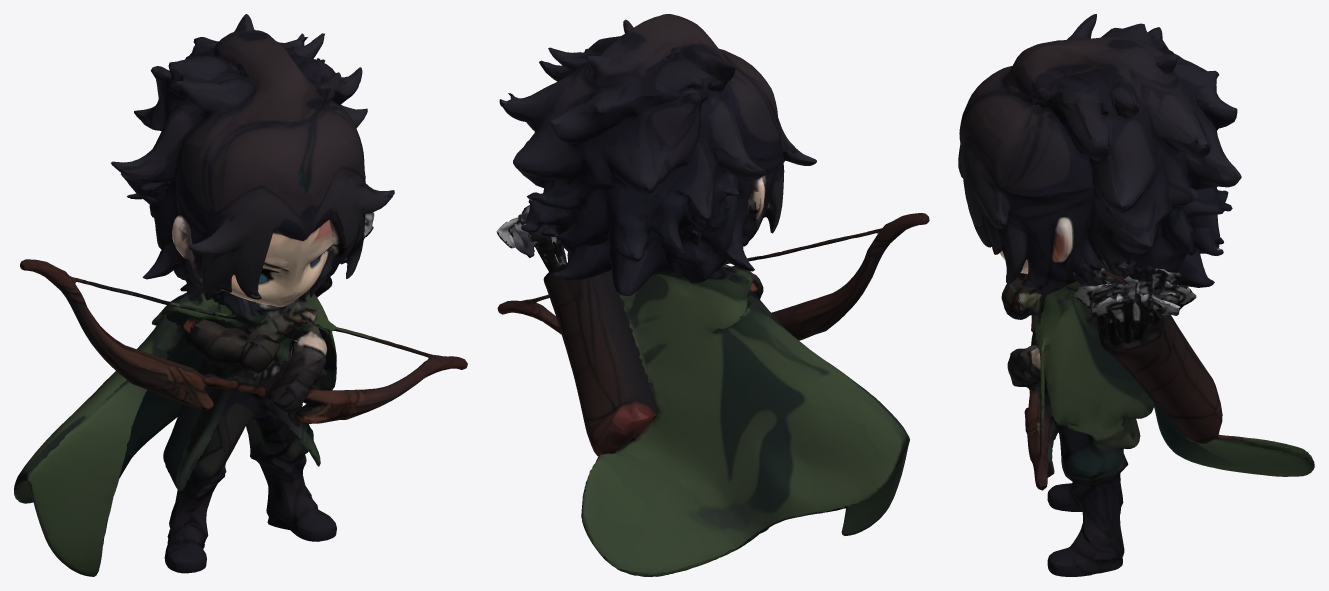
Rendered from archer.glb.
3 views of the same model, side by side, from view 1: azimuth 30°, elevation 25°; view 2: azimuth 150°, elevation 25°; view 3: azimuth 270°, elevation 25° (orthographic). The views are drawn at different scales.
Parts seen in each view (by area): view 1: tmp4hcfwi1t.ply; view 2: tmp4hcfwi1t.ply; view 3: tmp4hcfwi1t.ply.
Boxes of the visible parts, x1,y1,x2,y2 form: tmp4hcfwi1t.ply: (14,14,467,576); tmp4hcfwi1t.ply: (496,14,929,576); tmp4hcfwi1t.ply: (958,14,1314,576).
Bounding box in the file's own units: 1.87 × 1.99 × 1.26.
1 material, 1 textured.
